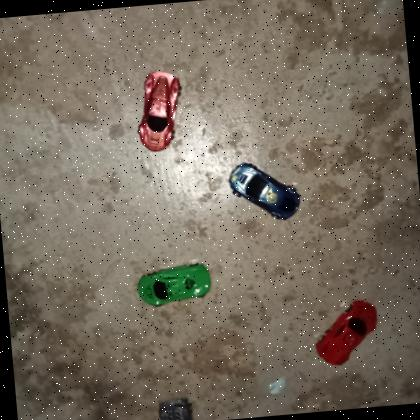Car: (224, 158, 302, 226), (311, 296, 383, 368), (130, 67, 187, 155), (133, 260, 214, 310)
